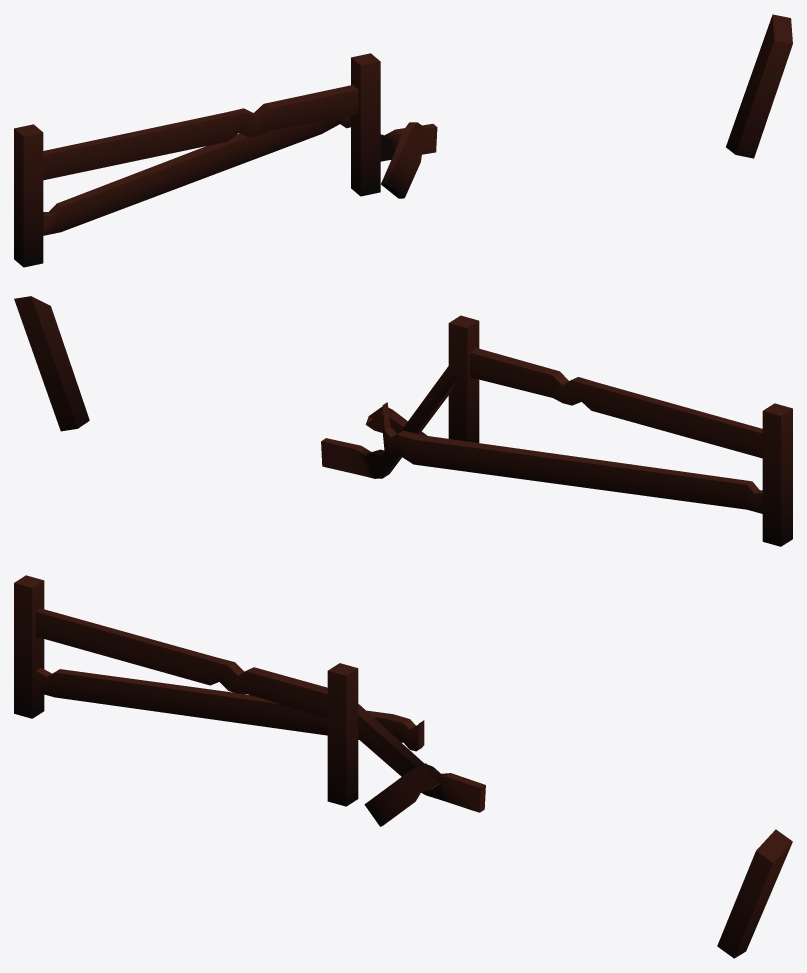
The model's file is FenceB.FBX.
3 renders of one model, top to bottom at view 1: azimuth 30°, elevation 25°; view 2: azimuth 150°, elevation 25°; view 3: azimuth 330°, elevation 25°, orthographic.
Parts seen in each view (by area): view 1: FenceB; view 2: FenceB; view 3: FenceB.
Boxes of the visible parts, <box> form: FenceB: <box>14,14,792,267</box>; FenceB: <box>14,296,792,546</box>; FenceB: <box>14,575,792,958</box>.
Size of the model in its own units: 679 by 164 by 84.78.
